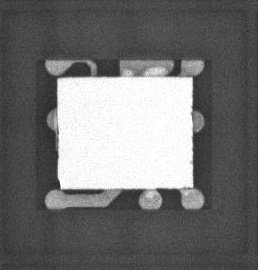DIE_BROKEN: (55, 175, 61, 190)
